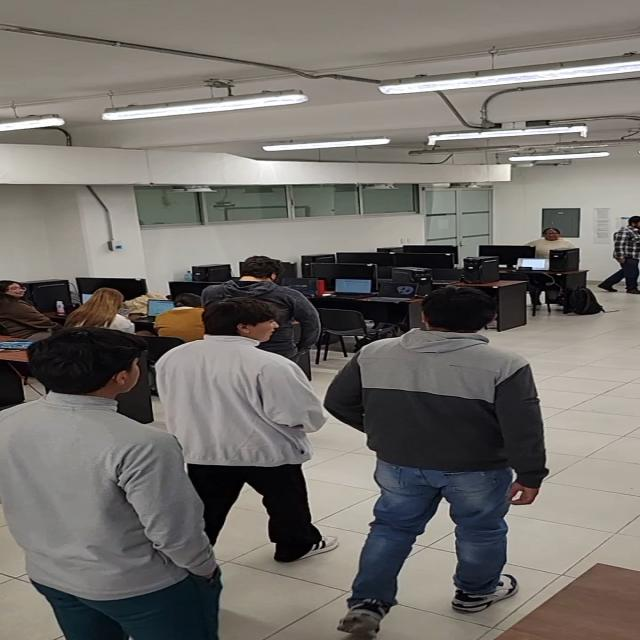Persona: (9, 334, 221, 636), (354, 284, 518, 618), (177, 302, 326, 558), (207, 247, 311, 315), (524, 222, 586, 273), (607, 210, 640, 293)
